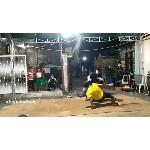Celurit: (106, 78, 126, 88)
